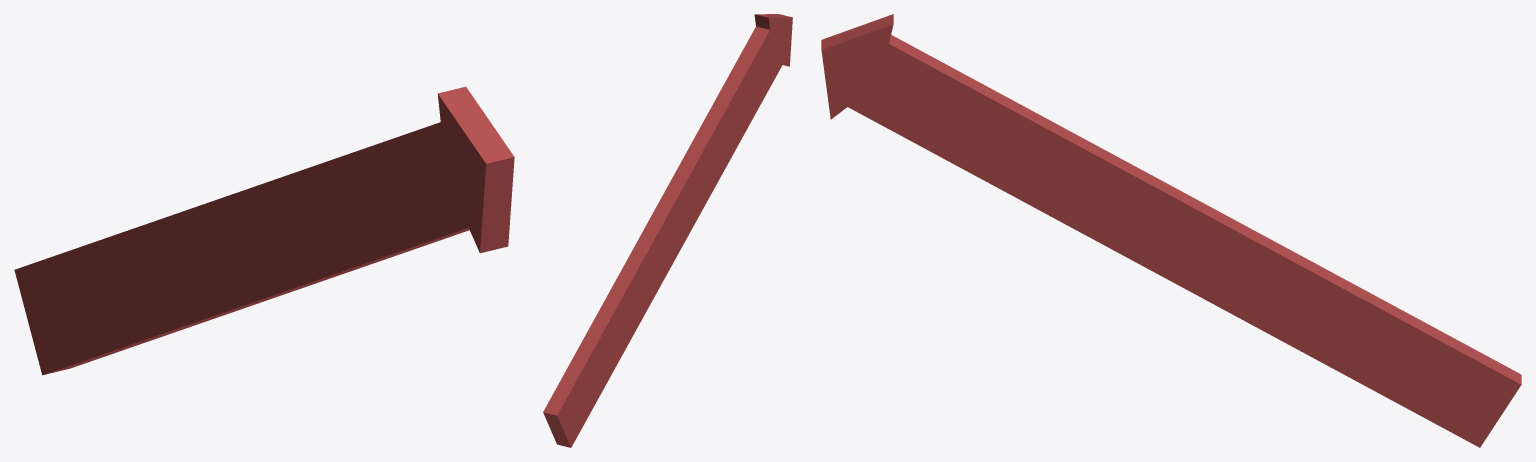
File: Clock_hand.fbx
The picture shows the model from 3 angles, left to right: view 1: azimuth 30°, elevation 25°; view 2: azimuth 150°, elevation 25°; view 3: azimuth 270°, elevation 25°; orthographic projection. The views are drawn at different scales.
Visible parts, largest first — view 1: Clock_hand; view 2: Clock_hand; view 3: Clock_hand.
Part boxes in pixels (box(x1,y1,x2,y2)): Clock_hand: box(14, 86, 514, 375); Clock_hand: box(543, 14, 792, 447); Clock_hand: box(821, 14, 1521, 447).
Bounding box in the file's own units: 8.47 × 161 × 242.
